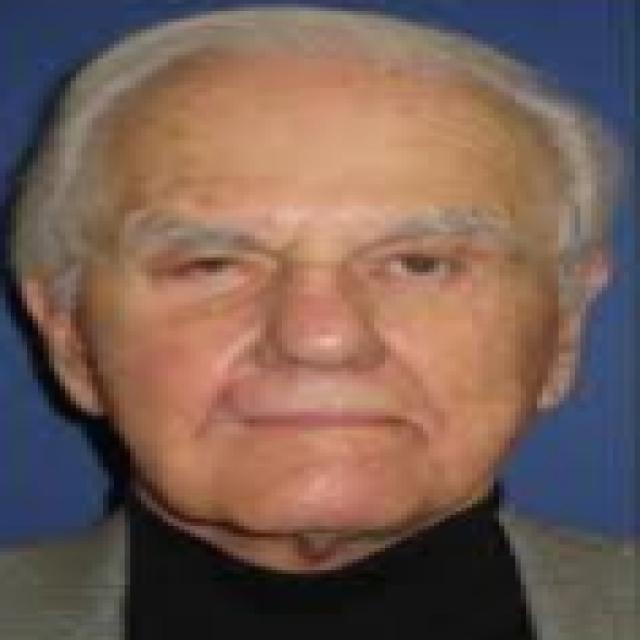normal_face: (90, 77, 561, 535)
